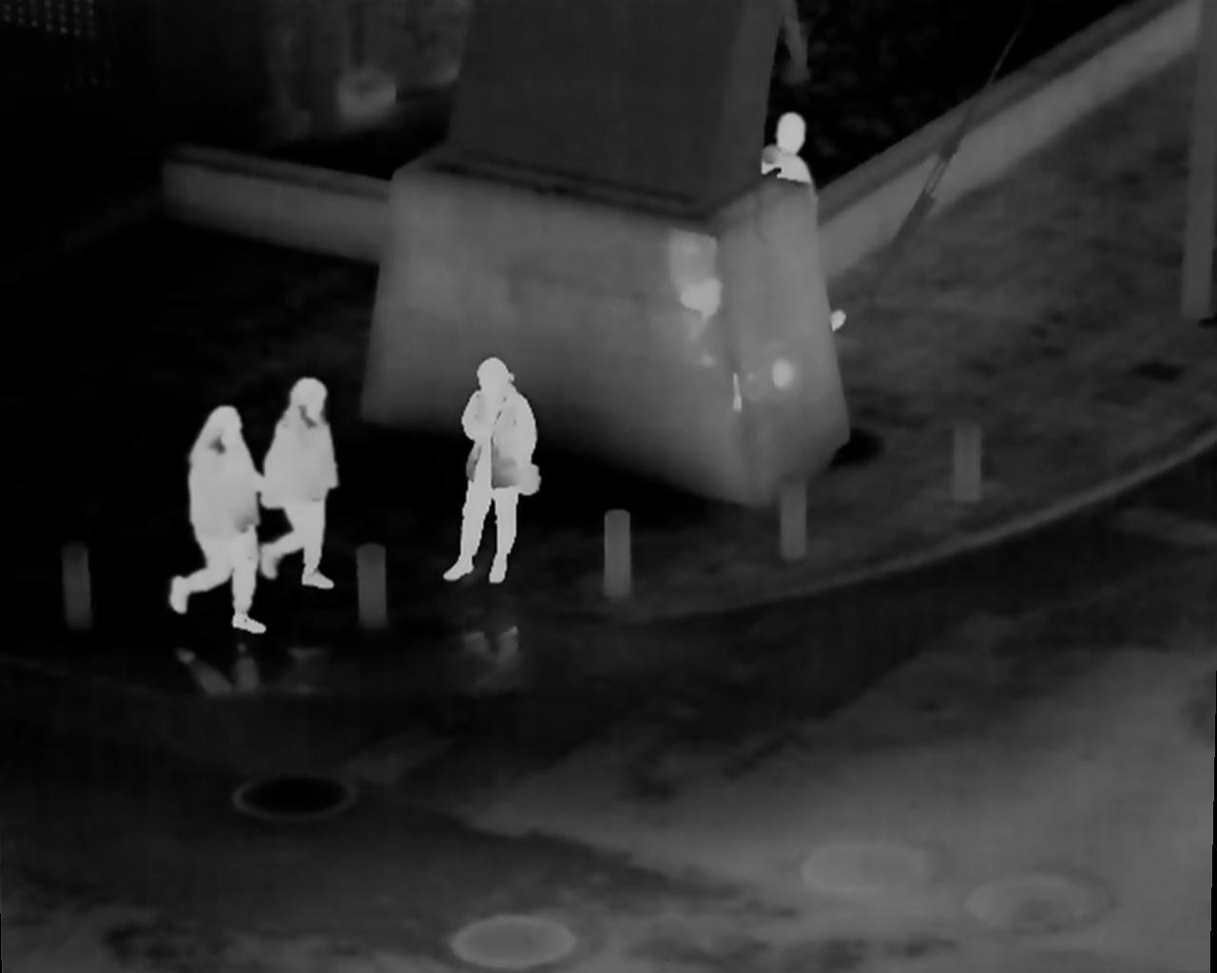person: (442, 357, 544, 590), (176, 404, 267, 643), (758, 105, 844, 335), (264, 375, 343, 589)
